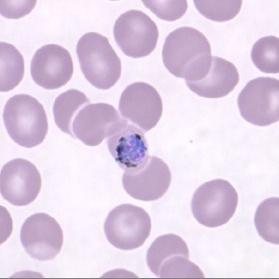Infected: (107, 121, 150, 173)
Uninfected: (162, 27, 213, 79), (76, 33, 121, 89), (3, 94, 47, 148), (72, 102, 124, 146), (191, 179, 238, 227), (112, 9, 158, 58), (118, 81, 162, 132), (185, 56, 238, 98), (122, 157, 171, 202), (236, 77, 279, 126), (104, 204, 149, 250), (20, 212, 63, 260), (29, 44, 72, 88), (0, 160, 41, 206), (53, 90, 91, 136), (146, 236, 187, 271)
